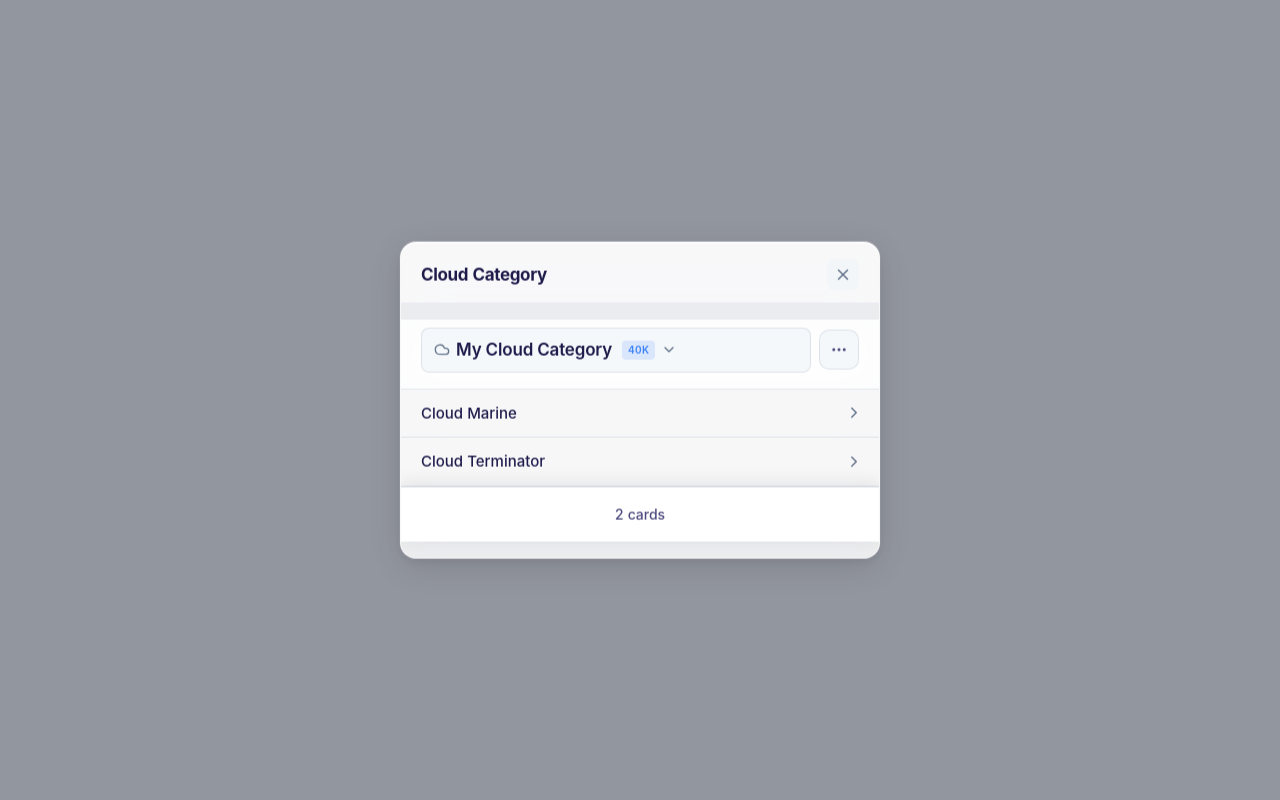
Test case: ListOverview sharing › surfaces a share failure such as the card limit
Click the button with class "list-overview-more-button" at (839, 350), box [819,330,859,370]
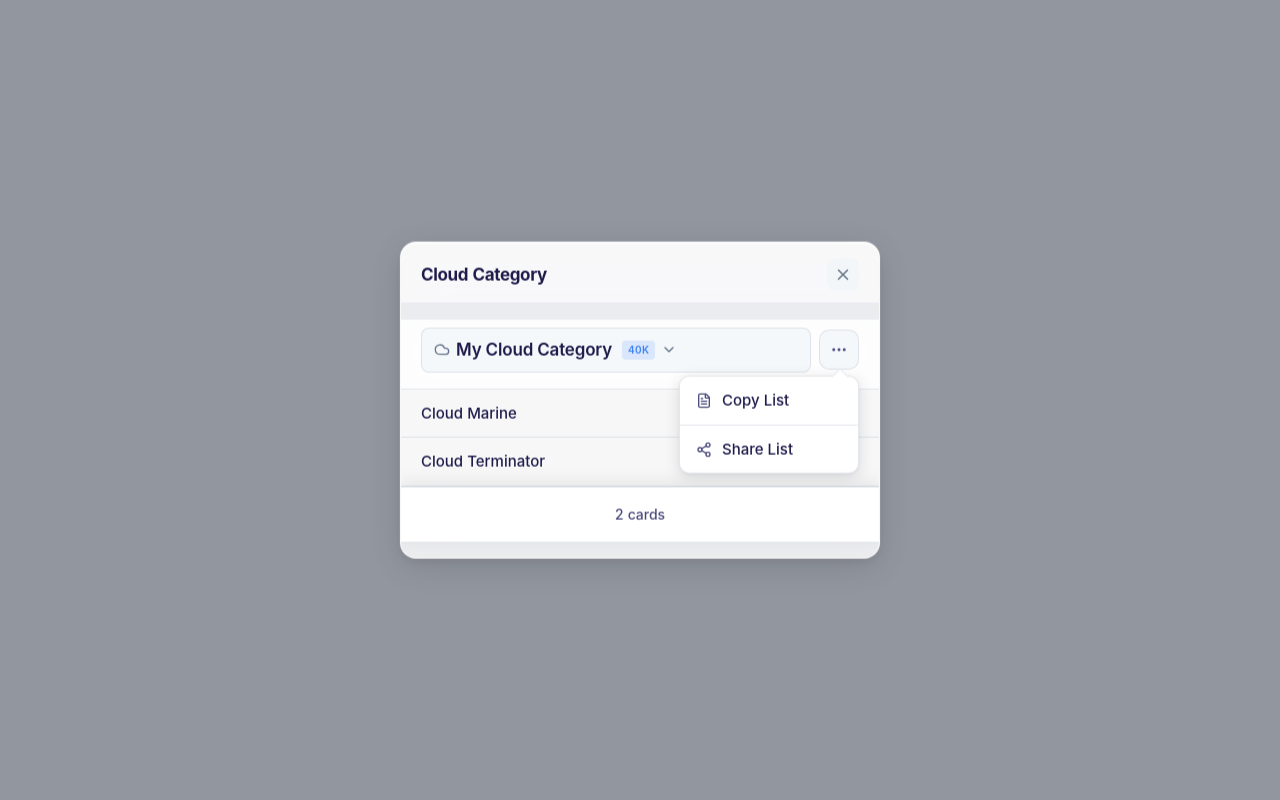
Click the button "Share List" at (769, 449), box [680,424,858,473]
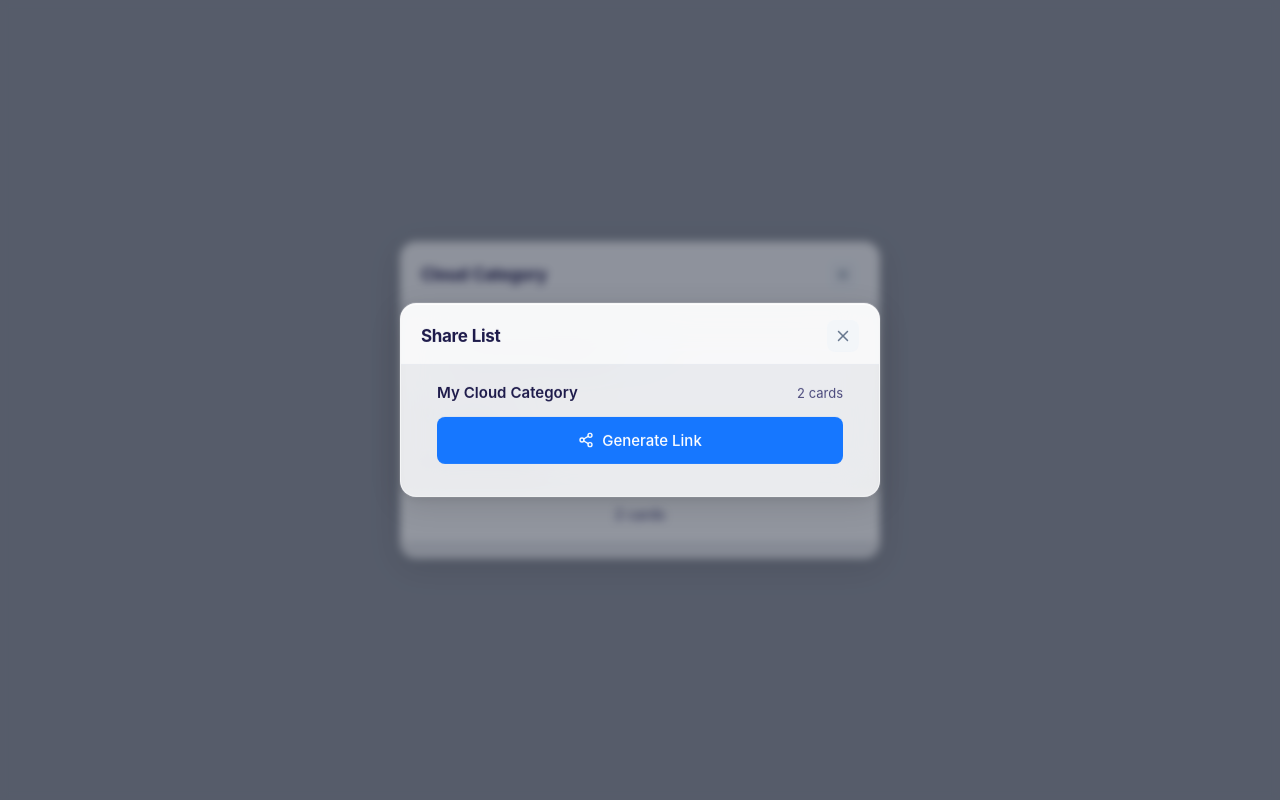
Click the button "Generate Link" at (640, 440), box [437,416,843,464]
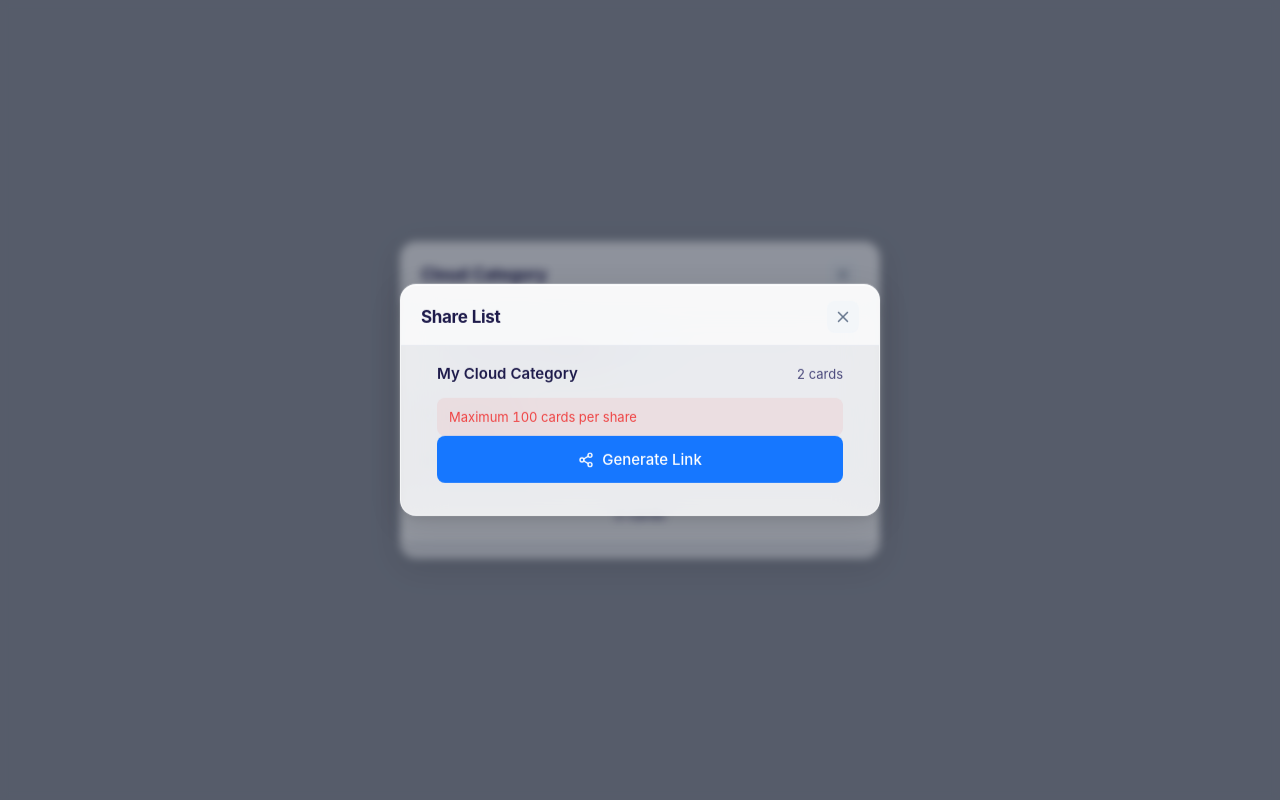
Expected: the text "Maximum 100 cards per share" is shown, [437,397,843,436]
